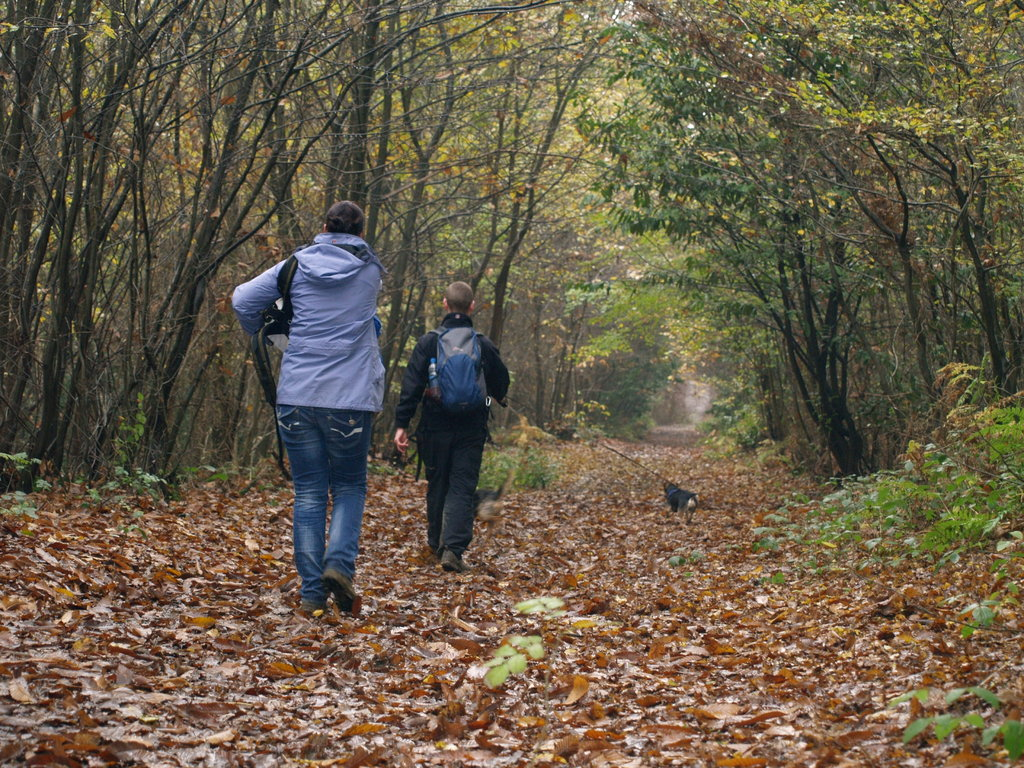Tree: (0, 1, 1023, 494)
